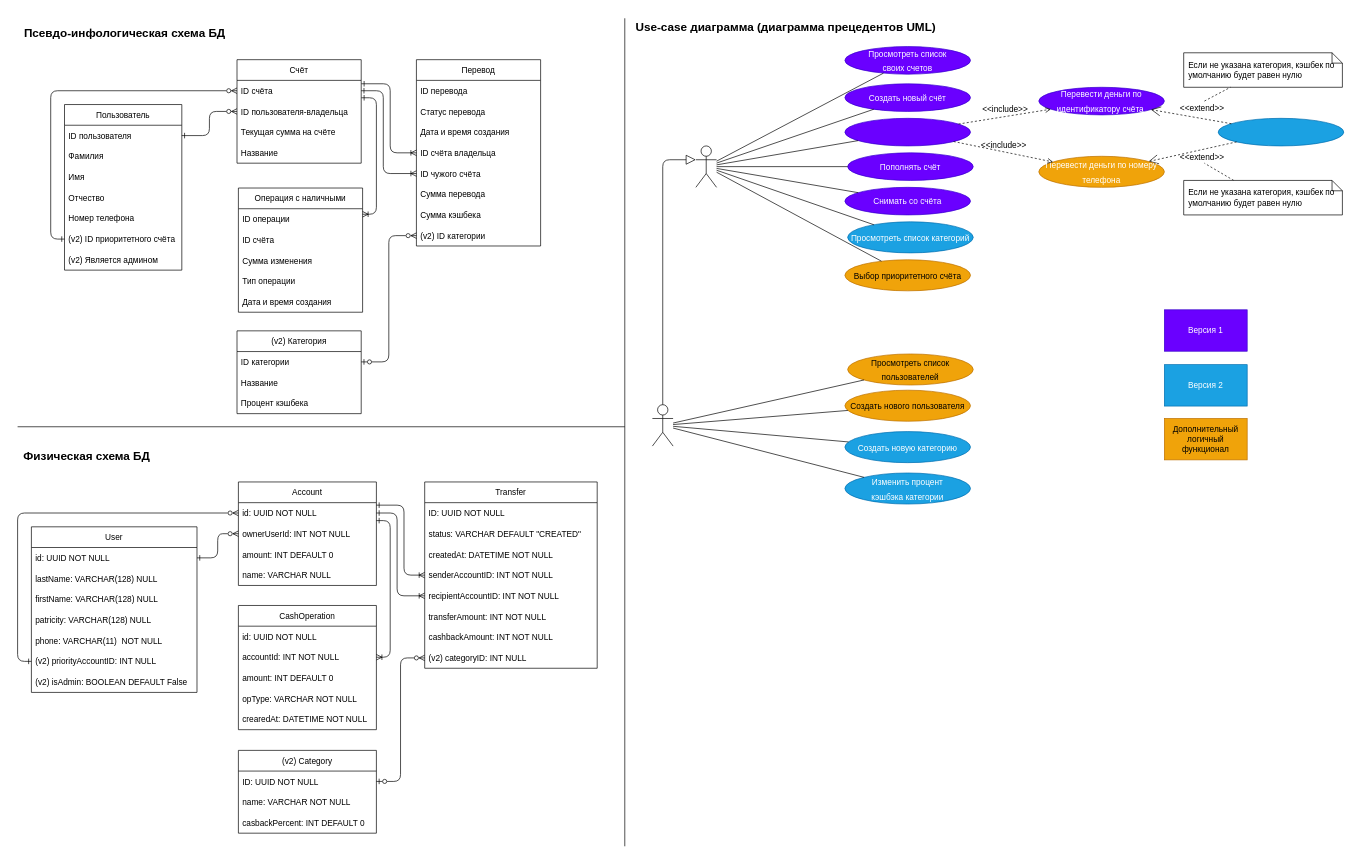
This 1356x859 diagram has some shape labels left out. The shapes that lost their labels are listed below. From the top down, each one's centre as x and y in pixels, then its label:
(907,132): Перевести деньги между разными счетами
(1281,132): Указать категорию перевода
(706,166): Владелец счёта
(662,425): (v2) Администратор
